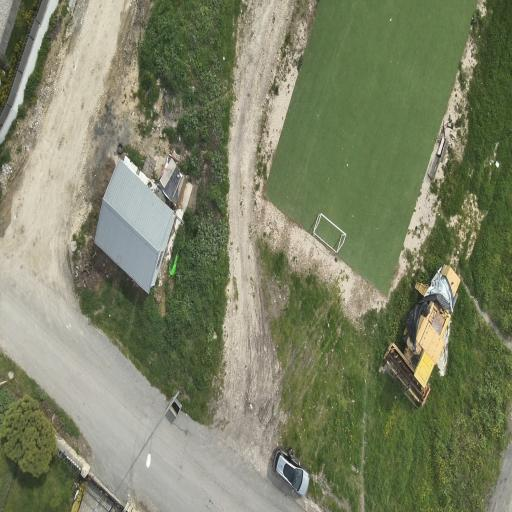car: (273, 448, 309, 495)
harvester: (383, 266, 460, 407)
person: (287, 447, 293, 457)
